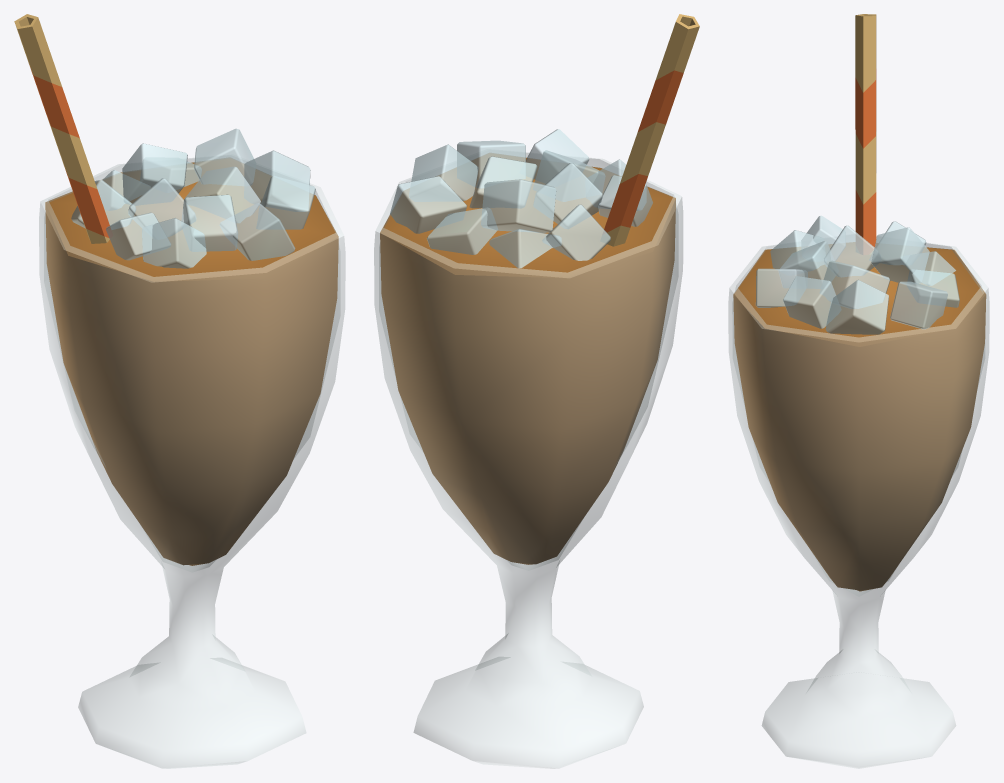
Rendered from 冷饮店.gltf.
3 views of the same model, side by side, from view 1: azimuth 30°, elevation 25°; view 2: azimuth 150°, elevation 25°; view 3: azimuth 270°, elevation 25° (orthographic). The views are drawn at different scales.
Parts seen in each view (by area): view 1: node_iced_coffee_glass_-21038, node_iced_coffee_drink_-21040, node_ice_cube_topping_-21042, node_straw_-21036; view 2: node_iced_coffee_glass_-21038, node_iced_coffee_drink_-21040, node_ice_cube_topping_-21042, node_straw_-21036; view 3: node_iced_coffee_glass_-21038, node_iced_coffee_drink_-21040, node_ice_cube_topping_-21042, node_straw_-21036.
Boxes of the visible parts, x1,y1,x2,y2 form: node_iced_coffee_glass_-21038: [39, 158, 345, 768]; node_iced_coffee_drink_-21040: [45, 158, 338, 565]; node_ice_cube_topping_-21042: [71, 128, 315, 268]; node_straw_-21036: [14, 14, 112, 243]; node_iced_coffee_glass_-21038: [374, 152, 682, 768]; node_iced_coffee_drink_-21040: [380, 153, 675, 564]; node_ice_cube_topping_-21042: [390, 129, 652, 268]; node_straw_-21036: [600, 14, 699, 246]; node_iced_coffee_glass_-21038: [728, 236, 989, 768]; node_iced_coffee_drink_-21040: [733, 242, 986, 591]; node_ice_cube_topping_-21042: [755, 215, 959, 334]; node_straw_-21036: [855, 14, 876, 254].
Bounding box in the file's own units: 0.1504 × 0.357 × 0.1292.
